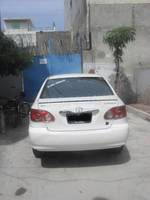car: (29, 73, 127, 158)
